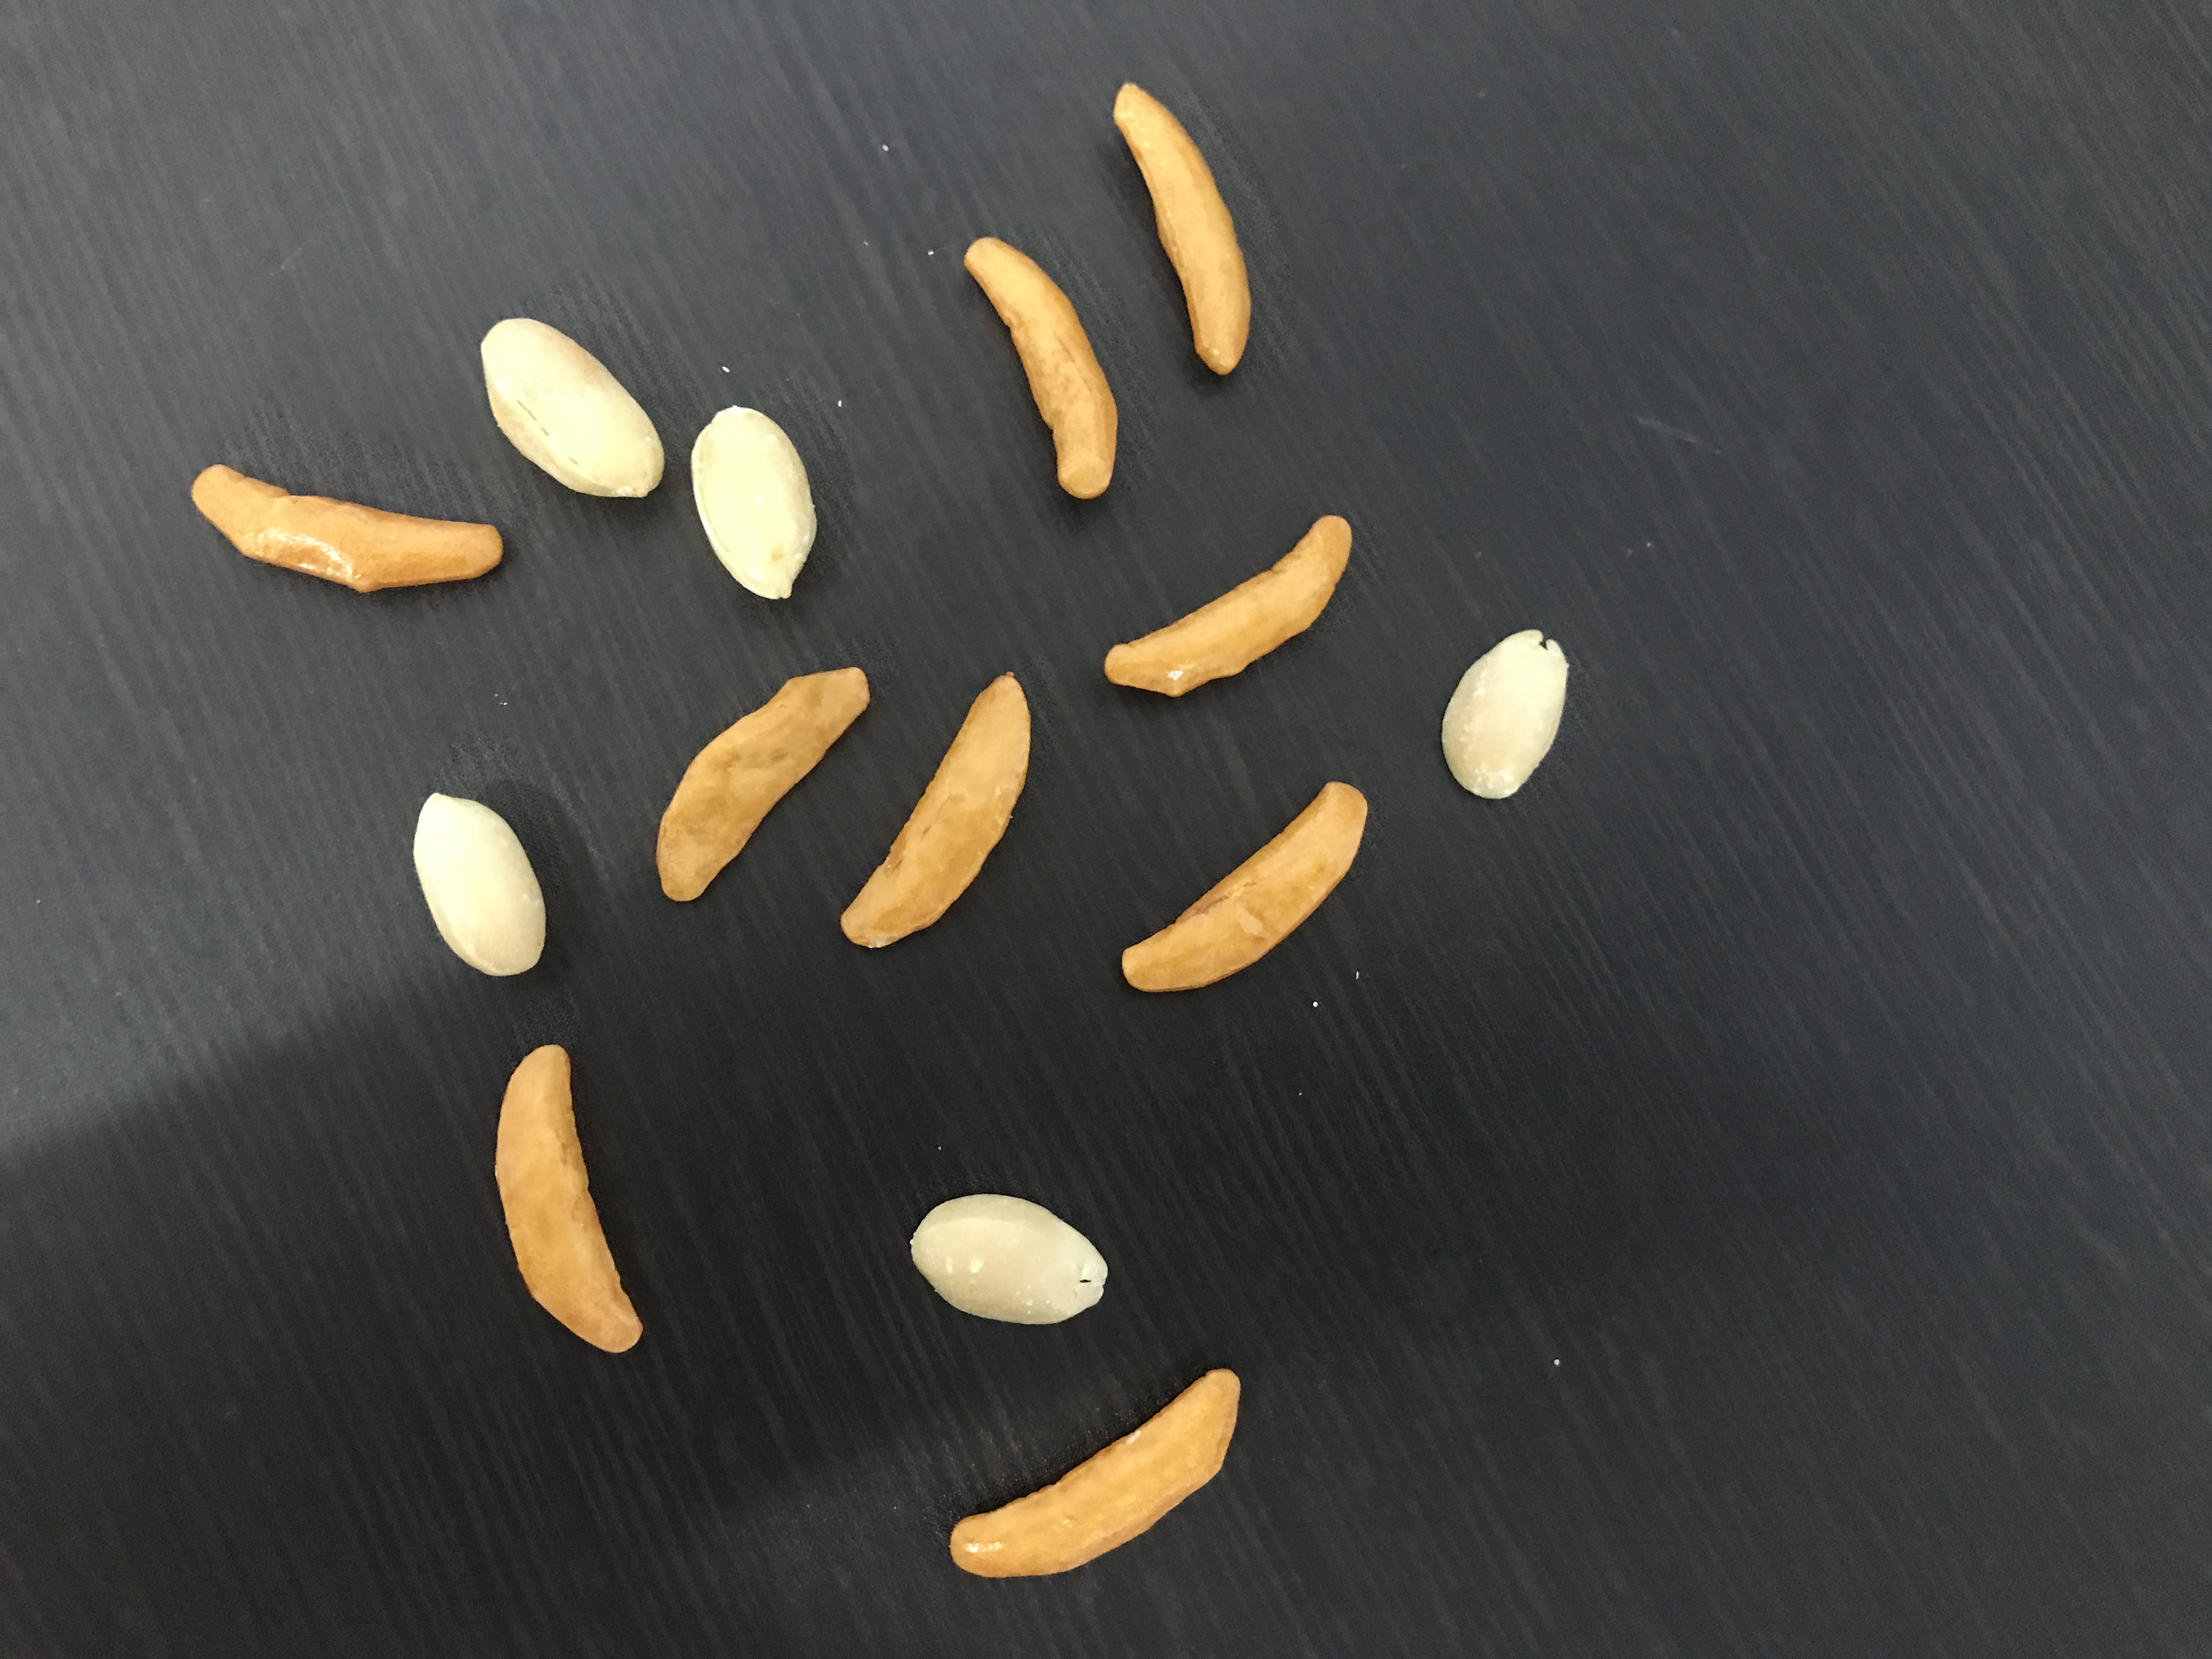peanut: (475, 307, 671, 507), (686, 397, 826, 606), (409, 788, 556, 985), (909, 1190, 1111, 1330), (1433, 626, 1575, 803)
